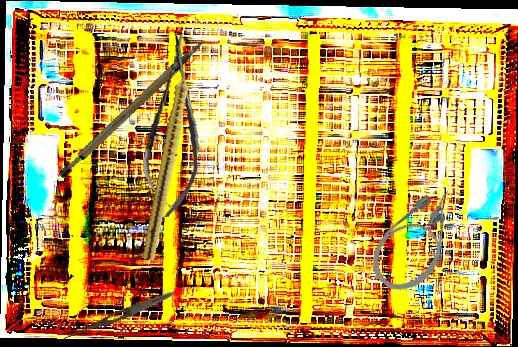Cannula: (359, 177, 479, 303)
Dressing Forceps: (61, 287, 177, 345)
Handpiece: (141, 58, 198, 262)
Micro Scissor: (138, 30, 211, 220)
Scalpel Handle: (42, 37, 225, 182)
